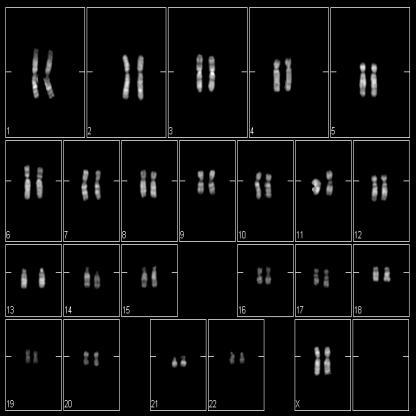1: (42, 43, 56, 103), (29, 42, 42, 102)
10: (252, 166, 264, 205), (264, 167, 276, 206)
11: (309, 168, 323, 201), (322, 167, 336, 200)
12: (368, 172, 380, 204), (379, 171, 391, 203)
13: (34, 262, 48, 291), (18, 262, 31, 291)
14: (81, 263, 92, 291), (92, 264, 102, 292)
15: (137, 262, 151, 292), (150, 262, 161, 293)
16: (254, 262, 264, 289), (264, 262, 272, 288)
17: (311, 262, 321, 292), (321, 262, 331, 292)
18: (369, 262, 381, 284), (381, 262, 393, 284)
19: (22, 346, 33, 364), (32, 346, 42, 364)
2: (117, 50, 131, 102), (132, 50, 146, 102)
20: (78, 346, 92, 370), (91, 346, 105, 370)
21: (169, 350, 180, 374), (180, 350, 190, 374)
22: (225, 346, 237, 366), (236, 348, 248, 366)
3: (192, 47, 206, 96), (204, 47, 218, 96)
4: (270, 55, 282, 96), (281, 55, 293, 96)
5: (356, 60, 368, 100), (368, 58, 379, 100)
6: (19, 160, 34, 202), (33, 161, 48, 203)
7: (92, 165, 107, 204), (79, 165, 93, 205)
8: (136, 166, 148, 202), (148, 164, 158, 200)
9: (194, 164, 206, 200), (206, 164, 216, 200)
X: (310, 342, 324, 379), (323, 342, 336, 379)
